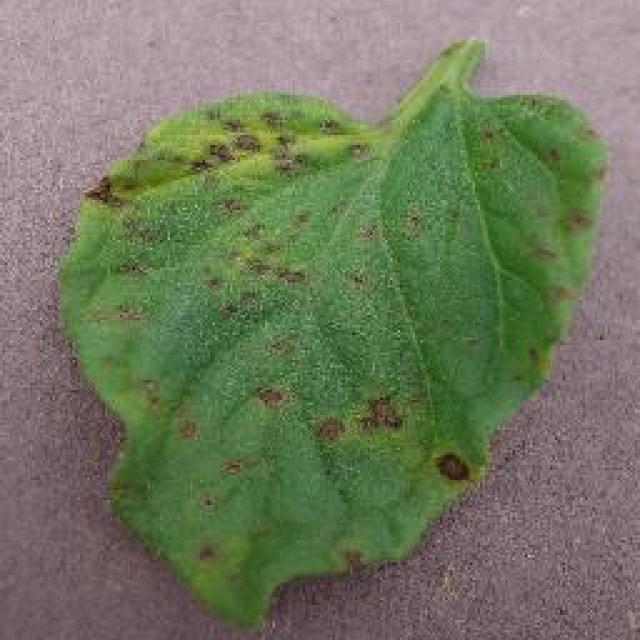Tomato___Septoria_leaf_spot: (60, 40, 602, 622)
